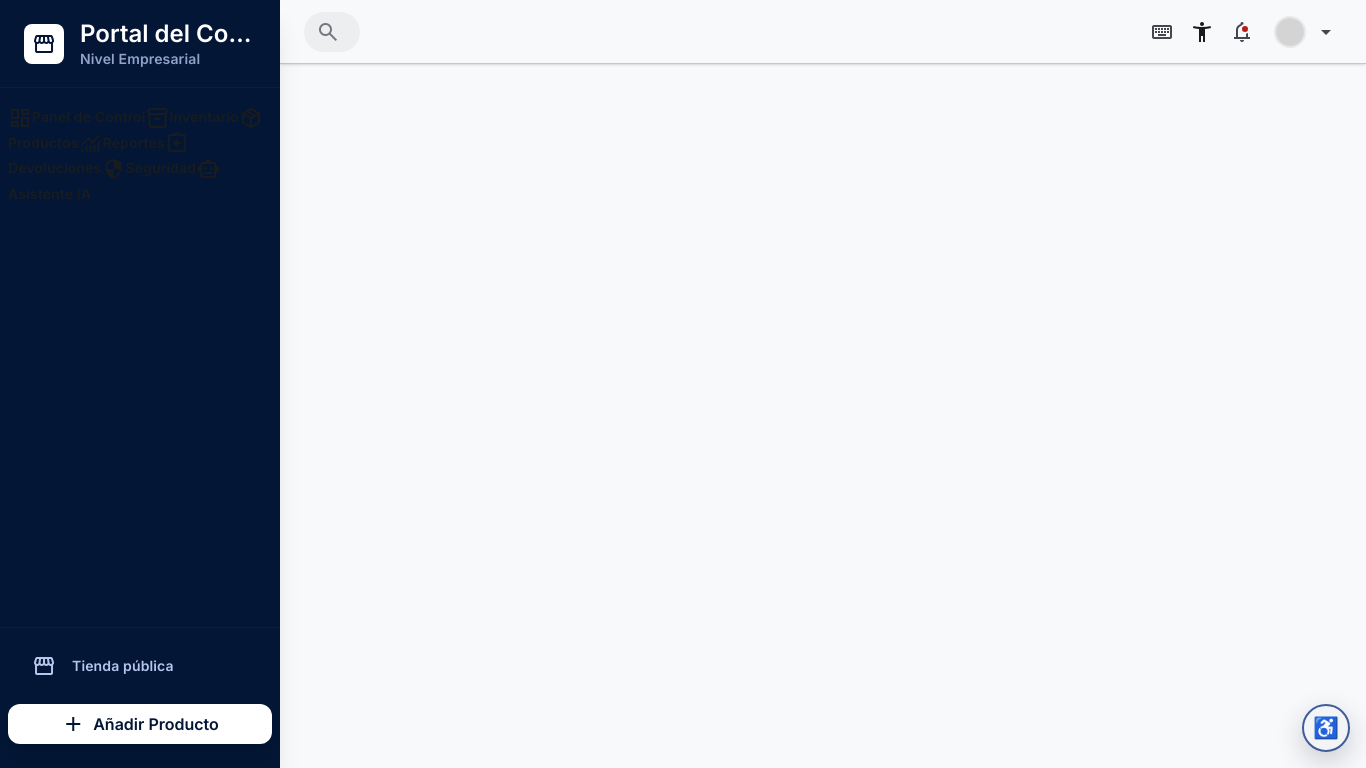
Test: MerchantLayout › opens profile dropdown on button click
Click the button named "menú de perfil".
click(1306, 32)  # box 1270,12 -> 1342,52
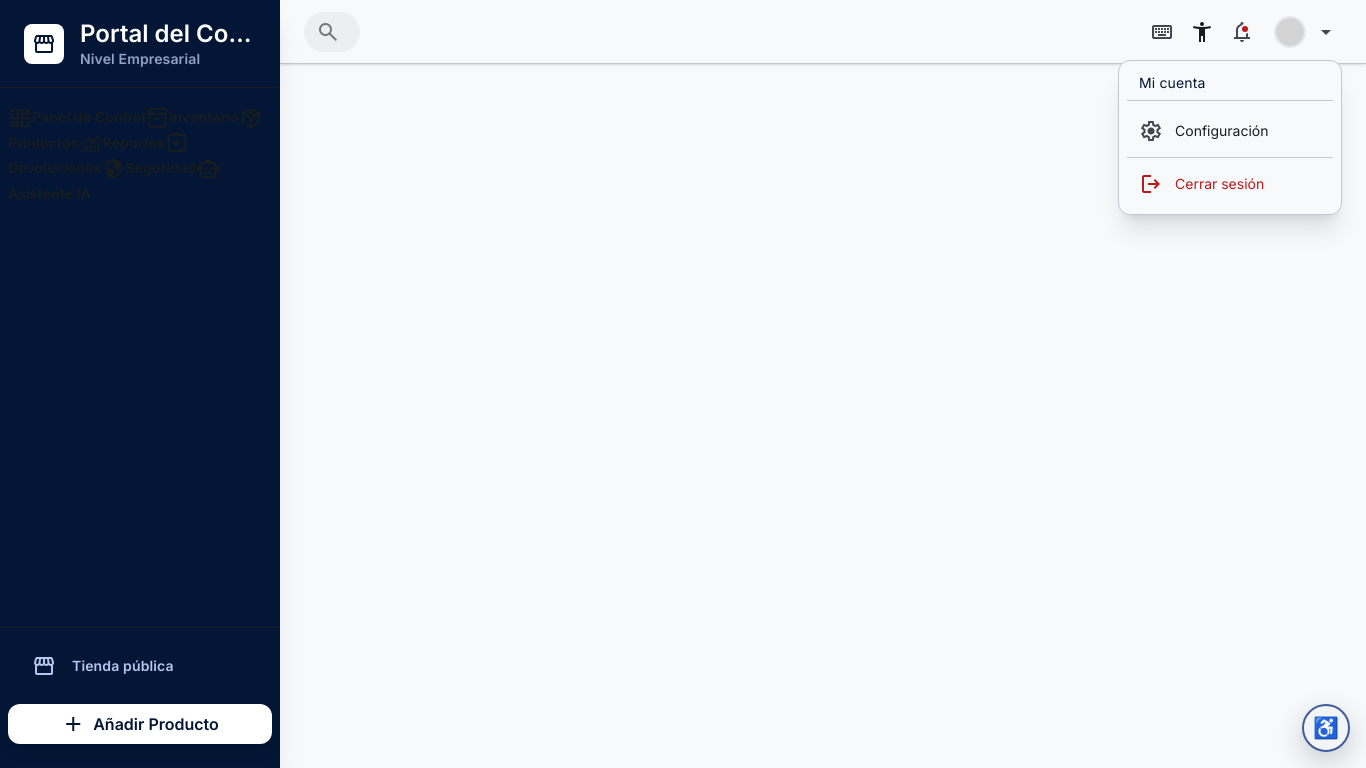
Check: the button "Configuración" is shown, box 1127,109 -> 1333,153
Check: the button "Cerrar sesión" is shown, box 1127,162 -> 1333,206
